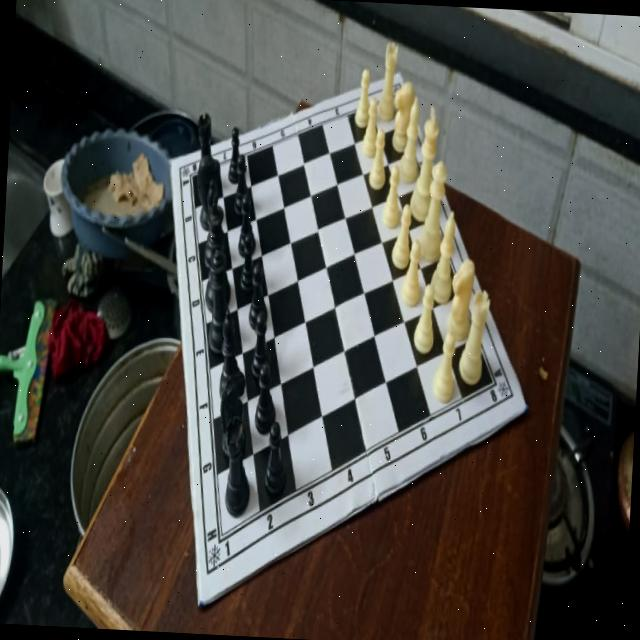corners: (192, 591, 208, 619), (518, 392, 532, 422), (166, 150, 177, 170), (393, 66, 406, 82)
